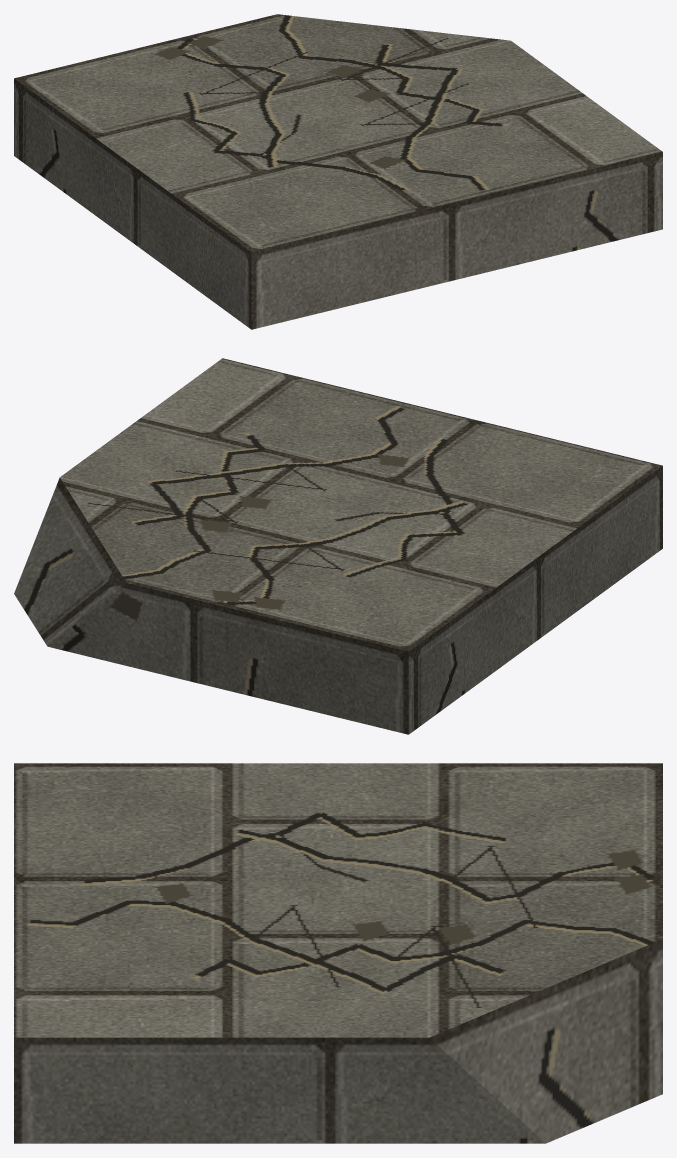
The model's file is floor_z2.glb.
3 renders of one model, top to bottom at view 1: azimuth 30°, elevation 25°; view 2: azimuth 150°, elevation 25°; view 3: azimuth 270°, elevation 25°, orthographic. The views are drawn at different scales.
Visible parts, largest first — view 1: floor_z2; view 2: floor_z2; view 3: floor_z2.
Boxes of the visible parts, x1,y1,x2,y2 form: floor_z2: [14, 14, 662, 329]; floor_z2: [14, 358, 662, 734]; floor_z2: [14, 763, 662, 1143].
Size of the model in its own units: 1 by 0.18 by 1.
1 material, 1 textured.
